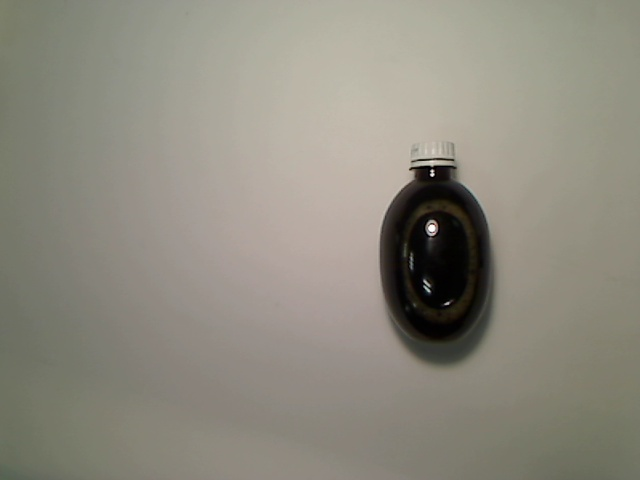plast_bottle: (376, 140, 492, 351)
